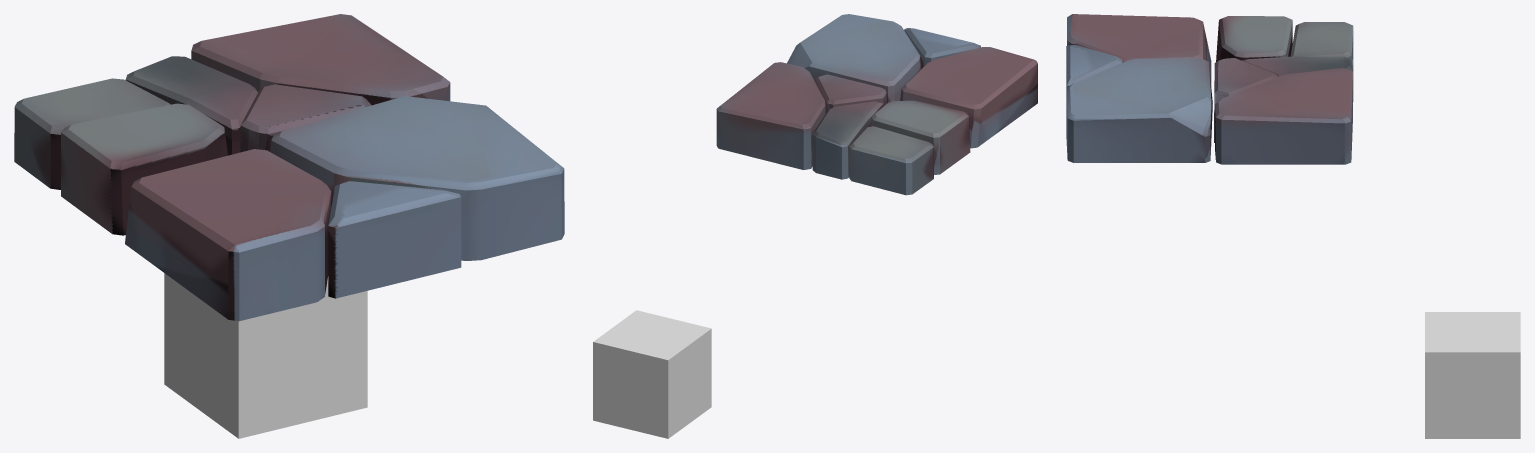
File: battlescence-1-floor009.fbx
3 renders of one model, left to right at view 1: azimuth 30°, elevation 25°; view 2: azimuth 150°, elevation 25°; view 3: azimuth 270°, elevation 25°, orthographic. The views are drawn at different scales.
Parts seen in each view (by area): view 1: Plane.024, battlescence-1-floor009; view 2: Plane.024, battlescence-1-floor009; view 3: Plane.024, battlescence-1-floor009.
Part boxes in pixels (x1,y1,x2,y2): Plane.024: [14, 14, 564, 321]; battlescence-1-floor009: [164, 273, 367, 438]; Plane.024: [716, 14, 1037, 195]; battlescence-1-floor009: [593, 310, 711, 438]; Plane.024: [1066, 14, 1353, 164]; battlescence-1-floor009: [1425, 312, 1520, 438].
Size of the model in its own units: 327 by 353 by 484.
